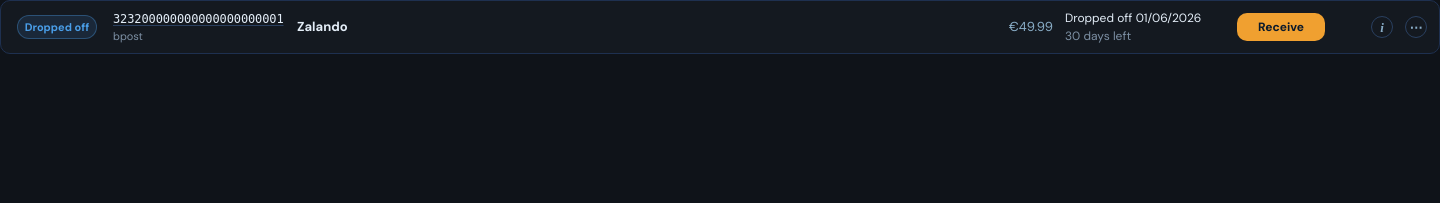
Test: the extra menu › offers from dropped_off exactly what the api would accept
Click the button named "more actions": (1416,27) [1405,16,1427,38]
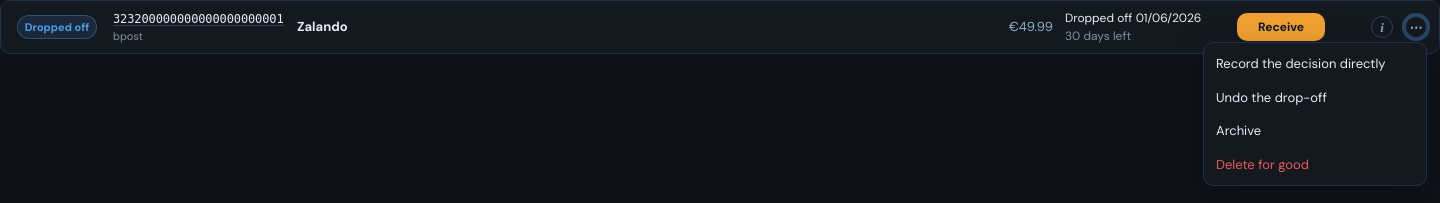
Check: the menu item "Record the decision directly" is shown, box [1208,47,1422,80]
